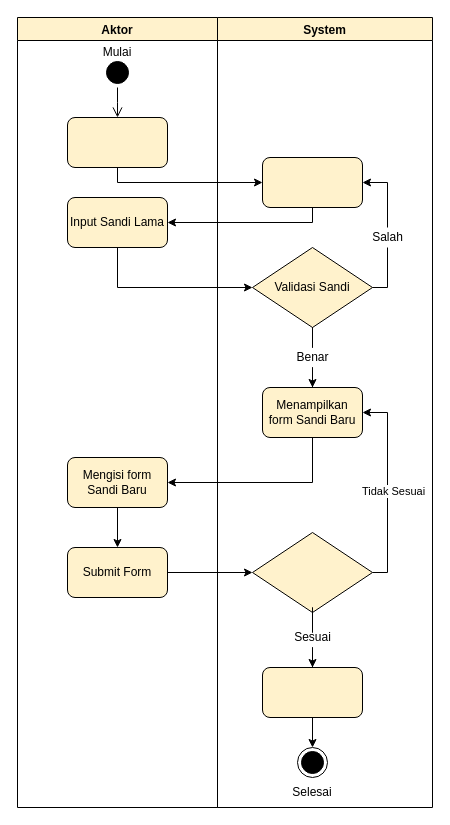
The diagram is 450 pixels wide and 825 high, and some of its shapes have lost their labels. Here are the shapes that lost their labels. From the top down, the centre of each, then its label:
At (117,142): "Ganti Kata Sandi".
At (312,182): "Menampilkan Form Sandi Lama".
At (312,572): "Validasi kata sandi".
At (312,692): "Kata Sandi terubah".
